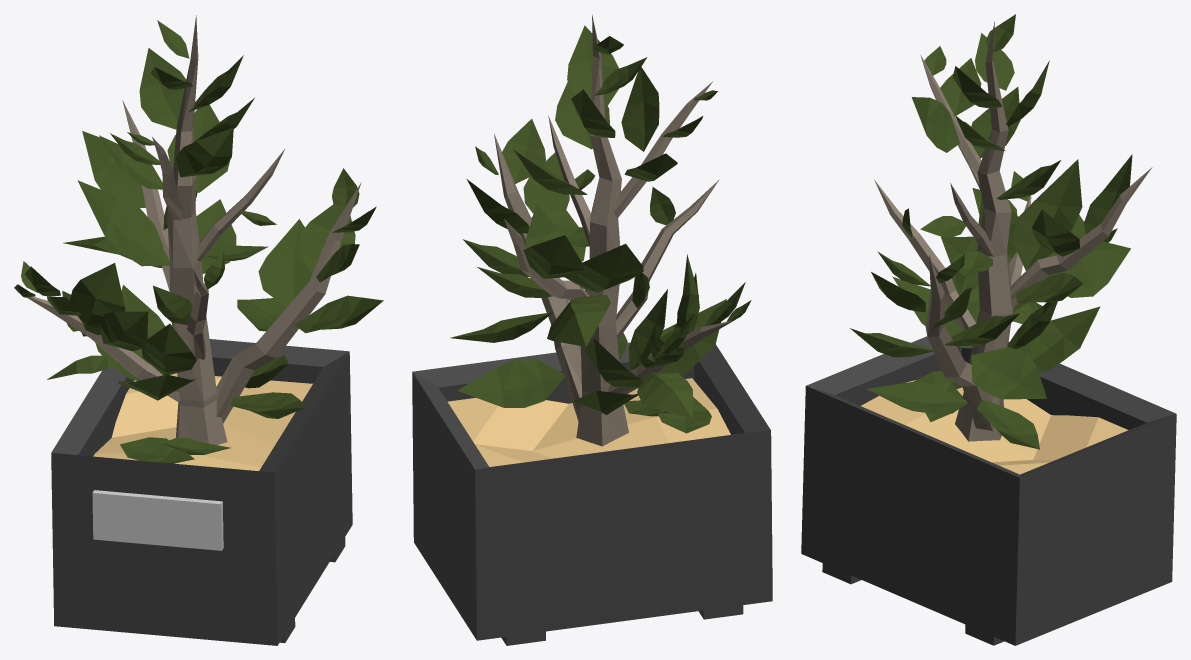
File: plant.glb
3 views of the same model, side by side, from view 1: azimuth 30°, elevation 25°; view 2: azimuth 150°, elevation 25°; view 3: azimuth 270°, elevation 25° (orthographic). The views are drawn at different scales.
Parts seen in each view (by area): view 1: plant; view 2: plant; view 3: plant.
Boxes of the visible parts, bbox=[...] form: plant: bbox=[14, 15, 383, 645]; plant: bbox=[412, 15, 772, 645]; plant: bbox=[801, 14, 1176, 645].
Bounding box in the file's own units: 0.2912 × 0.4742 × 0.289.
